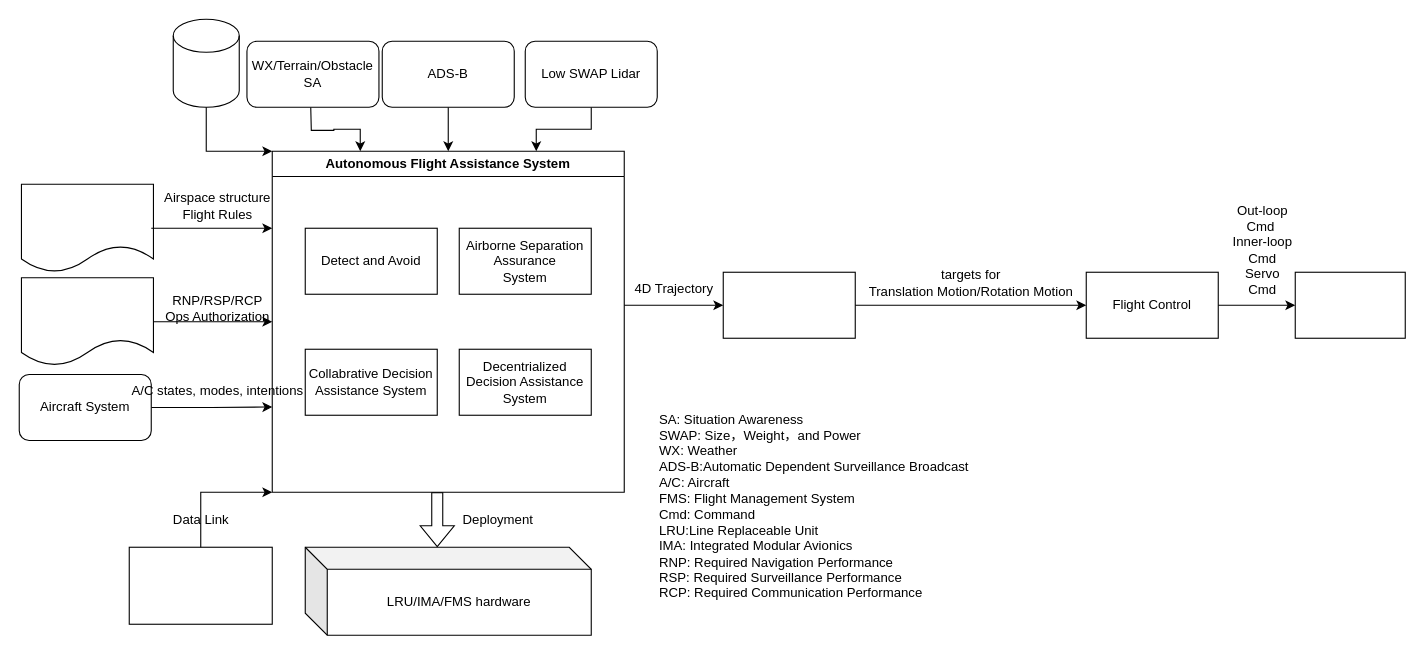
Image size: 1425x655. Some labels were removed from this diagram. Each missing label, with the centre of its shape:
Airborne Database: (205,62)
Ground Component: (200,585)
Infrastructure/Flight Rules: (86,227)
Operational/Equipage Compliance Status: (86,321)
servo/actuator: (1349,304)
Traditional FMS: (788,304)
